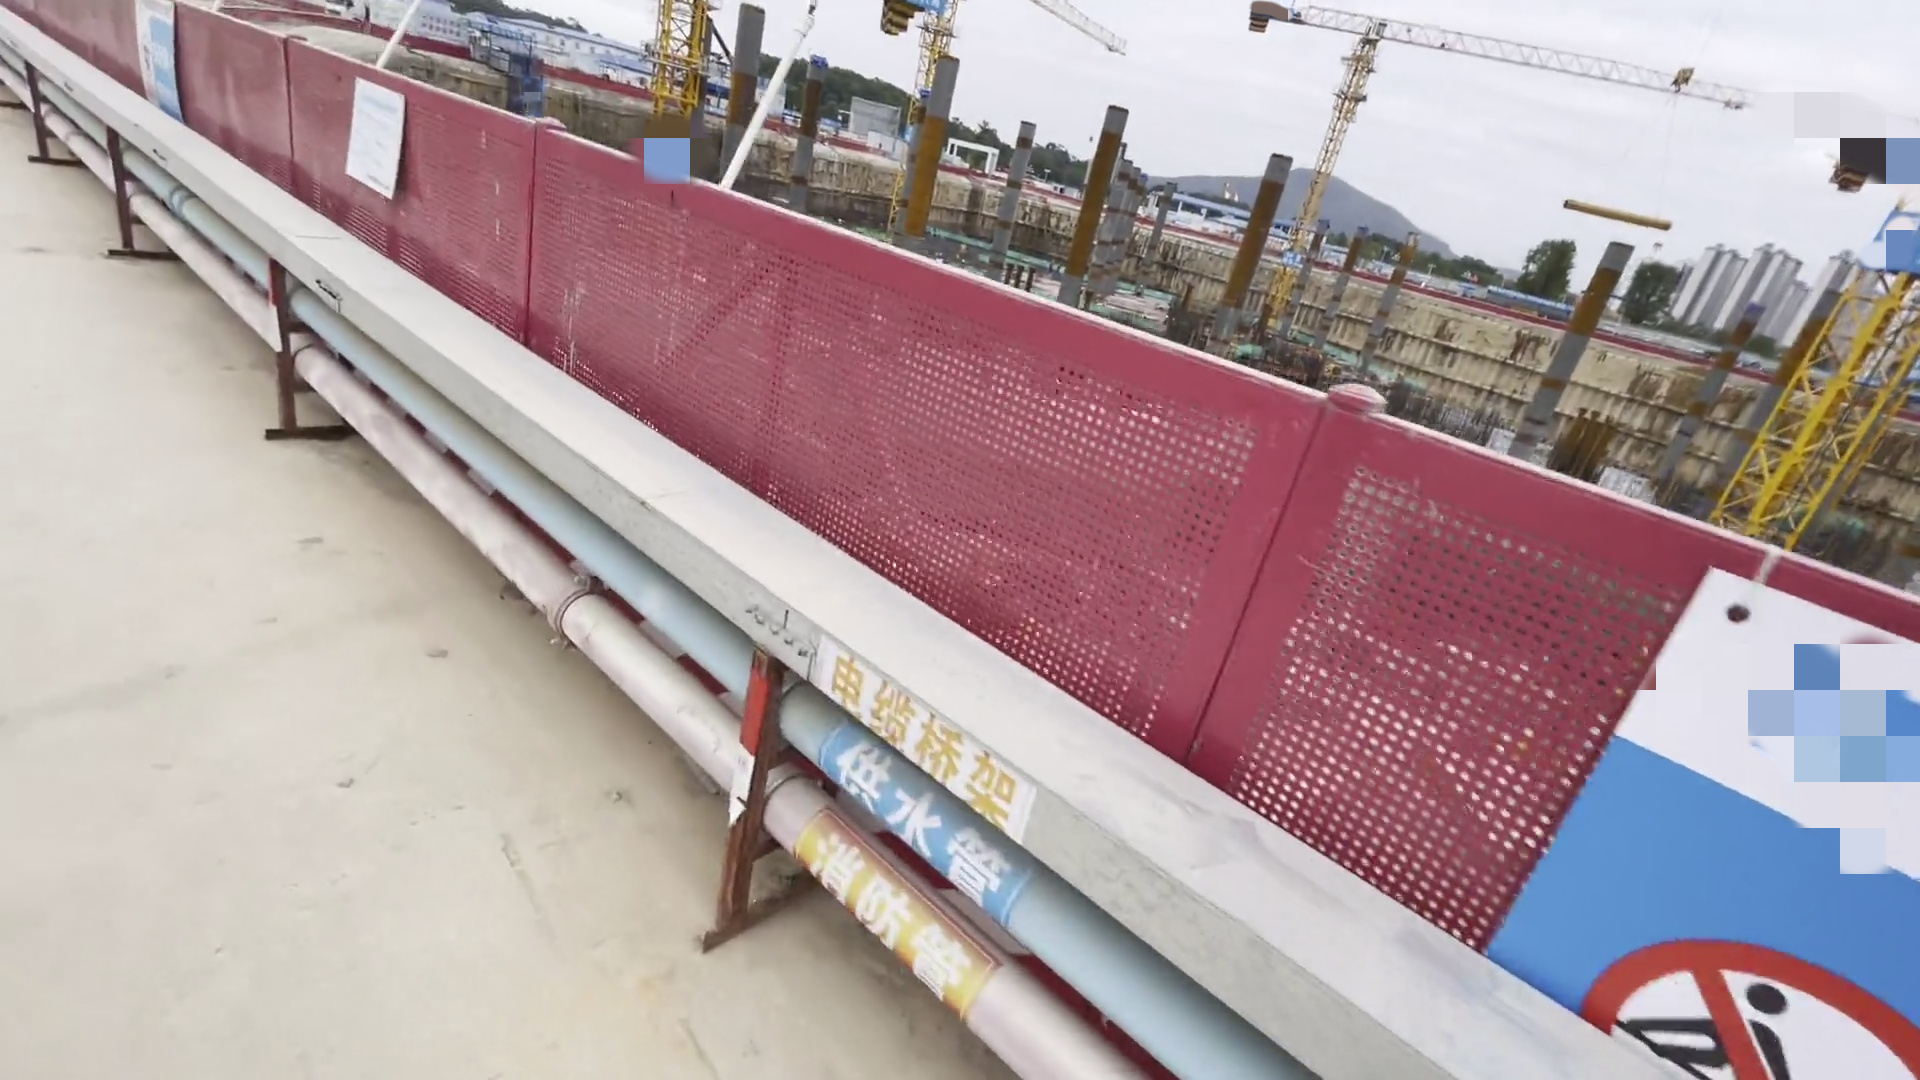fence: (135, 1, 1470, 942)
hook: (1665, 51, 1706, 124)
